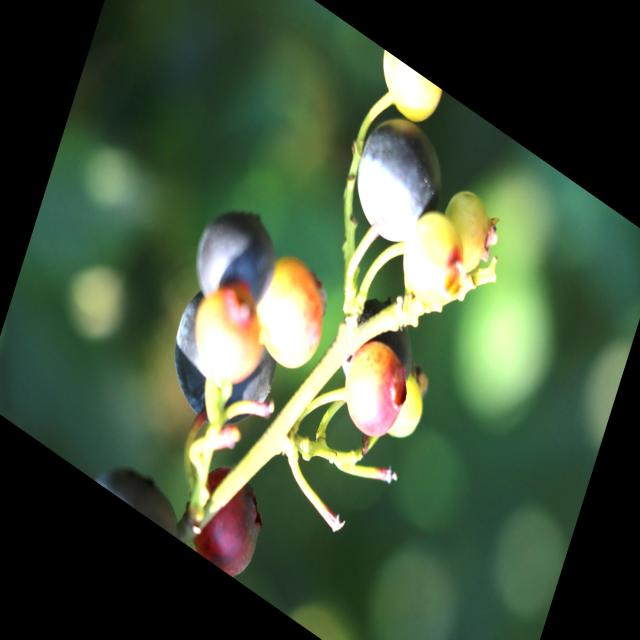blueberry: (153, 265, 294, 466), (337, 87, 464, 271), (179, 176, 294, 346), (328, 270, 434, 429)
blueberry-halfripe: (182, 453, 271, 584), (249, 248, 336, 380), (331, 319, 417, 452), (186, 276, 270, 402)
blueberry-unripe: (396, 204, 476, 321), (432, 162, 506, 276), (370, 49, 451, 144)
